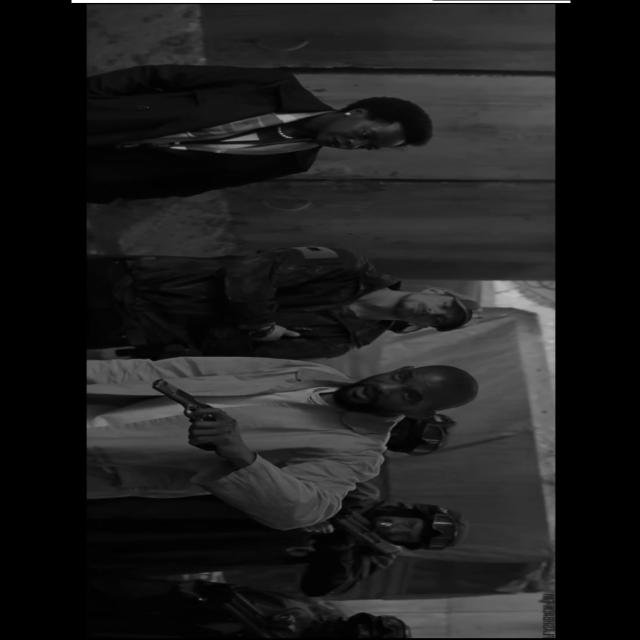weapons: (118, 367, 246, 445)
